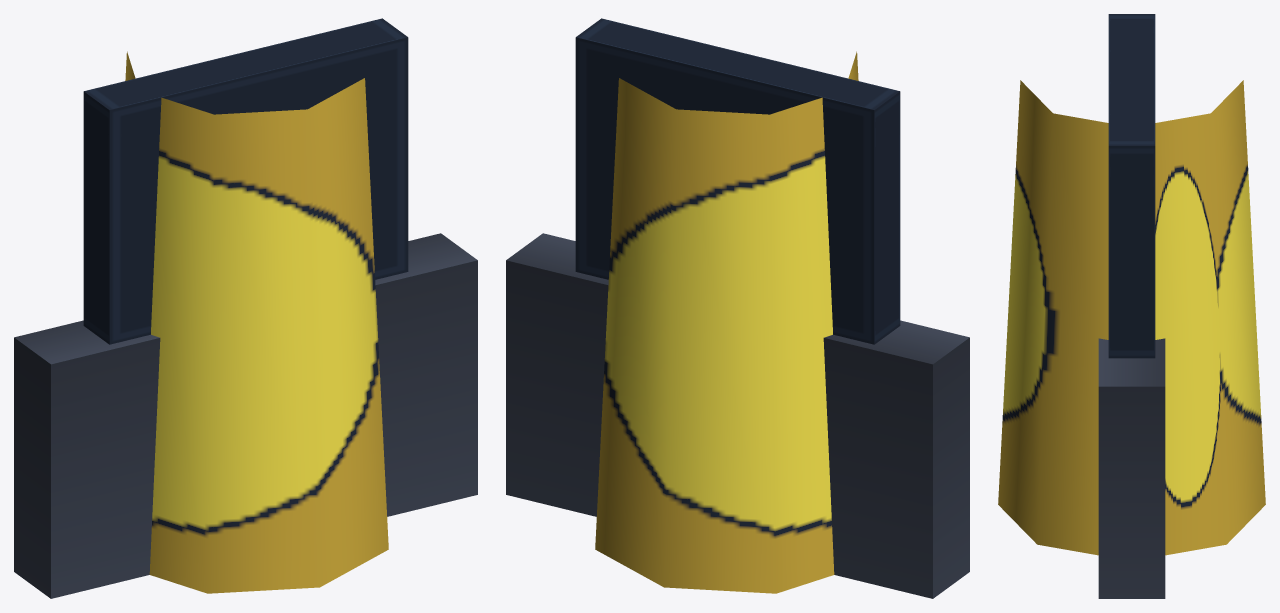
Rendered from KIT_Arch_Gothic_4.glb.
The picture shows the model from 3 angles, left to right: view 1: azimuth 30°, elevation 25°; view 2: azimuth 150°, elevation 25°; view 3: azimuth 270°, elevation 25°; orthographic projection. The views are drawn at different scales.
Parts seen in each view (by area): view 1: KIT_Arch_Gothic_4; view 2: KIT_Arch_Gothic_4; view 3: KIT_Arch_Gothic_4.
Boxes of the visible parts, x1,y1,x2,y2 form: KIT_Arch_Gothic_4: [14, 18, 477, 598]; KIT_Arch_Gothic_4: [506, 18, 969, 598]; KIT_Arch_Gothic_4: [998, 14, 1265, 598].
Bounding box in the file's own units: 4 × 4.2 × 2.4.
Materials: 1 (1 with a texture image).
